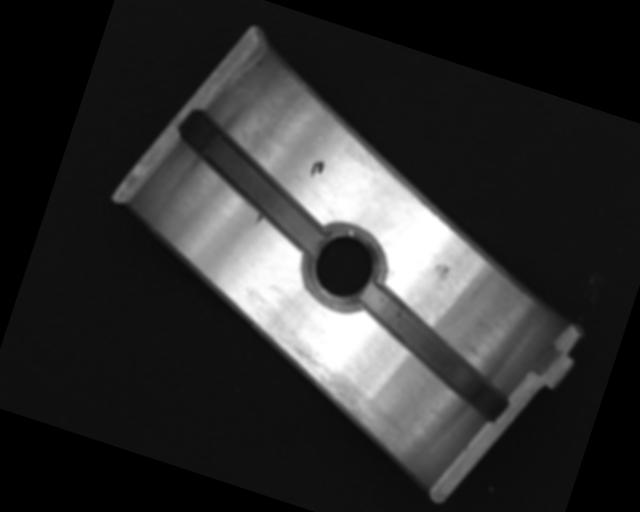blot: (308, 157, 327, 183)
bruise: (429, 260, 451, 285), (253, 211, 266, 227)
gap: (159, 109, 347, 255), (338, 285, 526, 424)
hole: (294, 216, 393, 320)
scratch: (245, 327, 435, 462)
